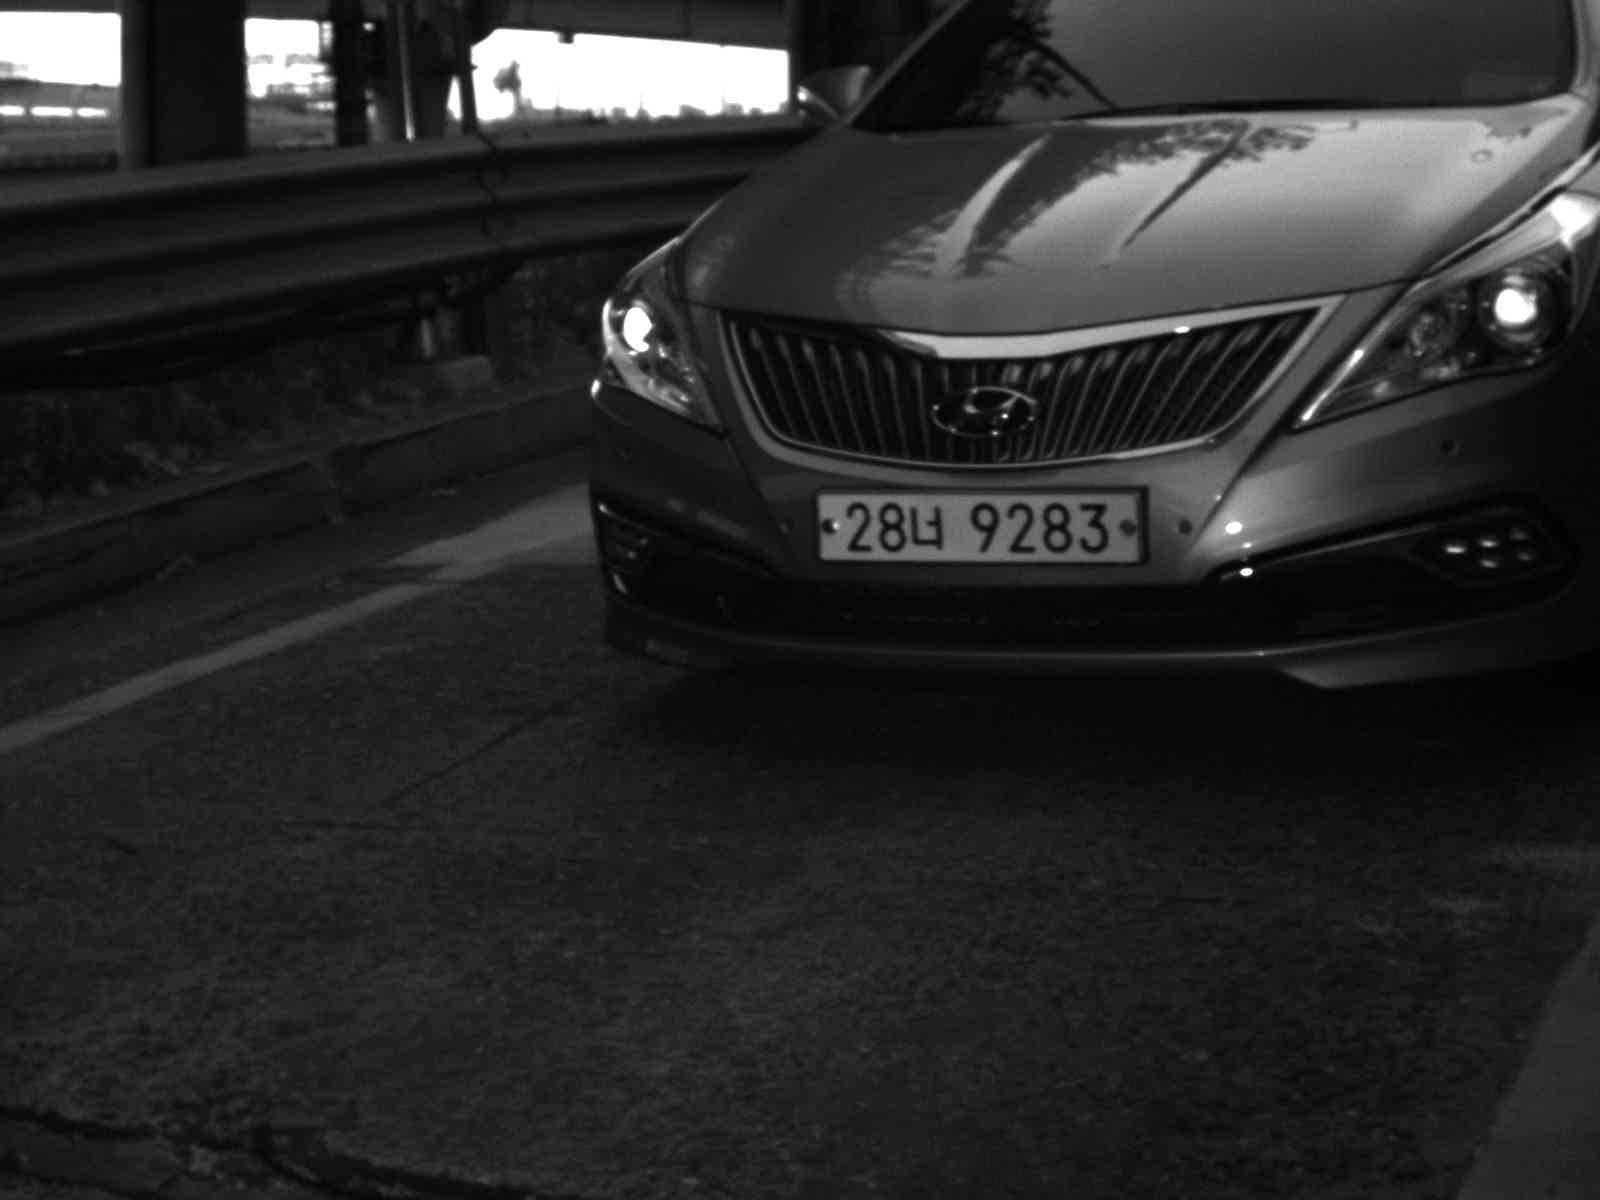P1_28너9283: (811, 486, 1163, 569)
너: (899, 497, 955, 561)
